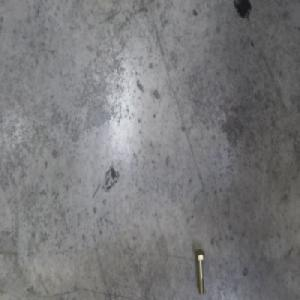Bolt: (194, 247, 206, 296)
